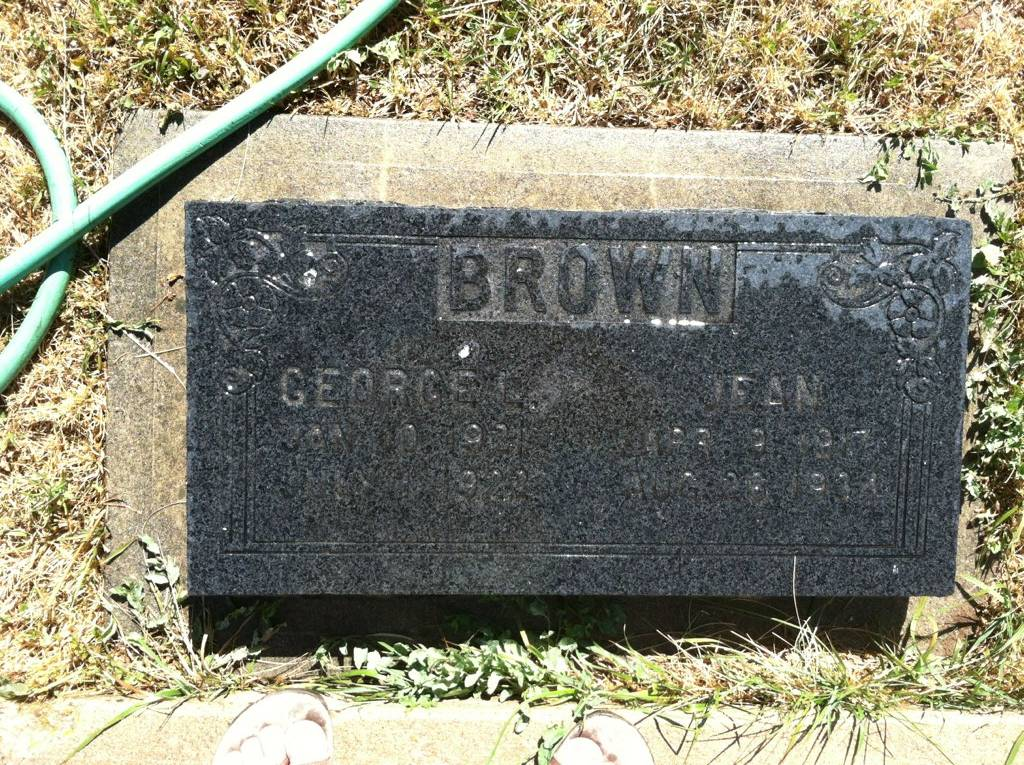flat: (179, 190, 978, 606)
